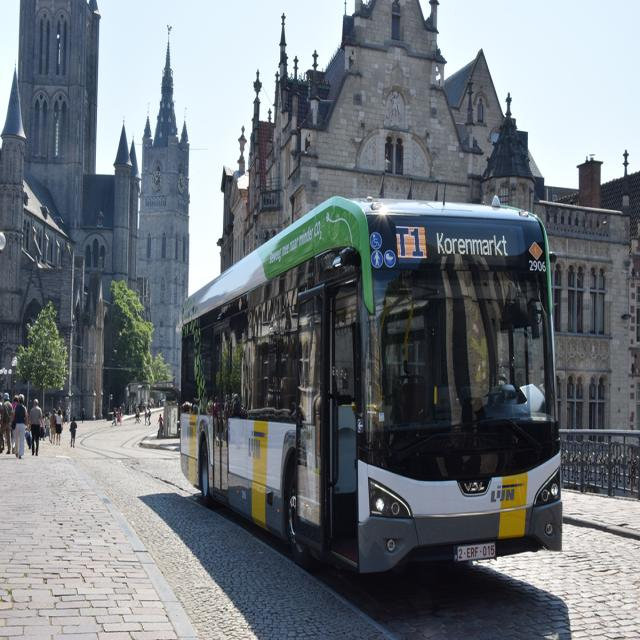bus-number: (393, 224, 428, 260)
